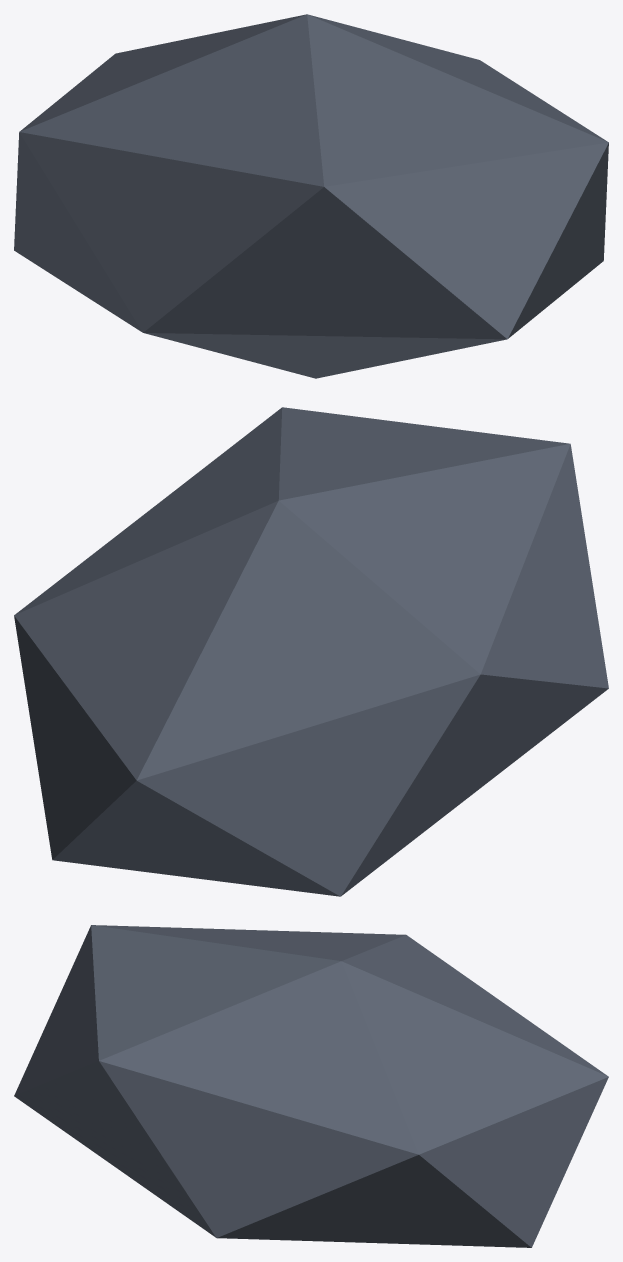
The model's file is EXT_SouthCliff_06_Shard_1.glb.
The picture shows the model from 3 angles, top to bottom: view 1: azimuth 30°, elevation 25°; view 2: azimuth 150°, elevation 25°; view 3: azimuth 270°, elevation 25°; orthographic projection. The views are drawn at different scales.
Visible parts, largest first — view 1: EXT_SouthCliff_06_Shard_1; view 2: EXT_SouthCliff_06_Shard_1; view 3: EXT_SouthCliff_06_Shard_1.
Part boxes in pixels (<box>): EXT_SouthCliff_06_Shard_1: <box>14,14,608,378</box>; EXT_SouthCliff_06_Shard_1: <box>14,407,608,896</box>; EXT_SouthCliff_06_Shard_1: <box>14,925,608,1247</box>.
Size of the model in its own units: 1.23 by 0.8191 by 1.69.
